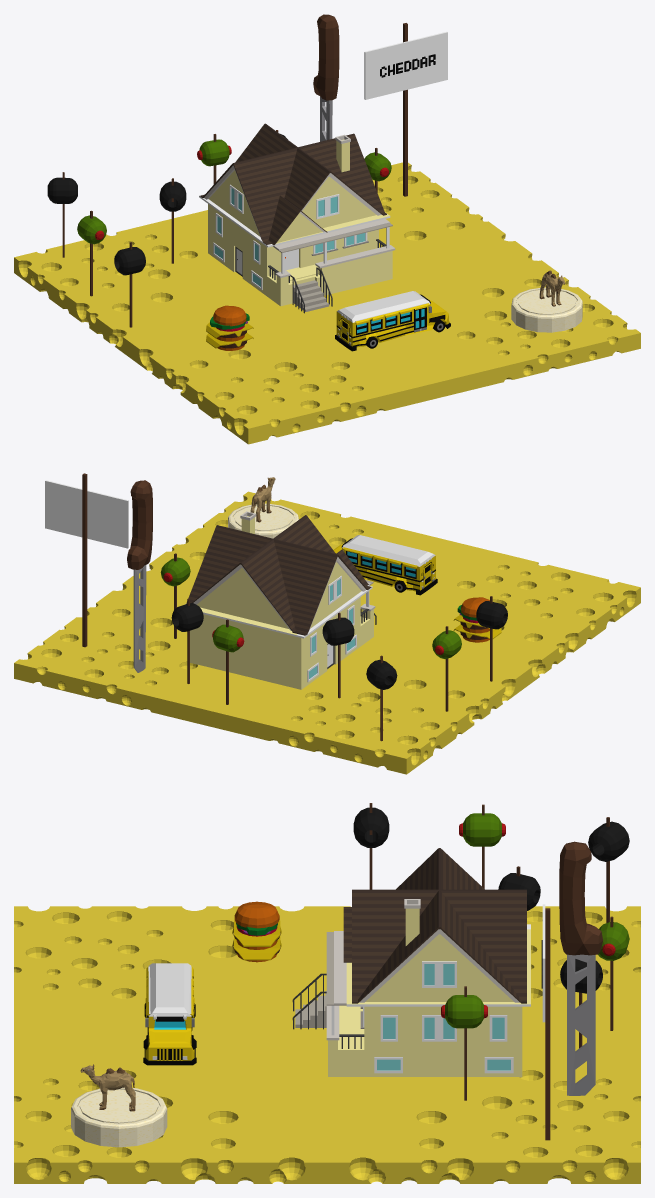
3 views of the same model, one above another, from view 1: azimuth 30°, elevation 25°; view 2: azimuth 150°, elevation 25°; view 3: azimuth 270°, elevation 25° (orthographic). The views are drawn at different scales.
Parts seen in each view (by area): view 1: Cube.022, Cube.1555, Cube.023, VEHICLES_SCHOOL_BUS, Cylinder.016, Cube.024, OBJRANDOM_HAMBURGER, Sphere.017, Sphere.016, Sphere.020, Sphere.018, Sphere.022 (+1 smaller); view 2: Cube.022, Cube.1555, Cube.023, VEHICLES_SCHOOL_BUS, Cube.024, Cylinder.016, OBJRANDOM_HAMBURGER, Sphere.017, Sphere.020, Sphere.021, Sphere.016, Sphere.018 (+3 smaller); view 3: Cube.022, Cube.1555, Cube.024, VEHICLES_SCHOOL_BUS, Cylinder.016, OBJRANDOM_HAMBURGER, Cube.023, Sphere.019, Sphere.016, Sphere.018, Sphere.017, Sphere.022 (+3 smaller).
Part boxes in pixels (x1=…): Cube.022: x1=14, y1=162, x2=640, y2=444; Cube.1555: x1=199, y1=123, x2=395, y2=313; Cube.023: x1=364, y1=23, x2=447, y2=196; VEHICLES_SCHOOL_BUS: x1=335, y1=291, x2=450, y2=351; Cylinder.016: x1=511, y1=287, x2=582, y2=332; Cube.024: x1=313, y1=14, x2=339, y2=141; OBJRANDOM_HAMBURGER: x1=206, y1=305, x2=253, y2=350; Sphere.017: x1=114, y1=242, x2=145, y2=327; Sphere.016: x1=47, y1=172, x2=77, y2=257; Sphere.020: x1=159, y1=178, x2=186, y2=263; Sphere.018: x1=77, y1=210, x2=106, y2=296; Sphere.022: x1=197, y1=134, x2=231, y2=184; Cube.022: x1=14, y1=491, x2=640, y2=774; Cube.1555: x1=185, y1=511, x2=376, y2=689; Cube.023: x1=45, y1=473, x2=128, y2=647; VEHICLES_SCHOOL_BUS: x1=333, y1=535, x2=437, y2=595; Cube.024: x1=127, y1=480, x2=152, y2=672; Cylinder.016: x1=228, y1=503, x2=298, y2=538; OBJRANDOM_HAMBURGER: x1=453, y1=597, x2=501, y2=642; Sphere.017: x1=476, y1=596, x2=507, y2=681; Sphere.020: x1=322, y1=612, x2=354, y2=698; Sphere.021: x1=171, y1=598, x2=203, y2=683; Sphere.016: x1=366, y1=655, x2=397, y2=741; Sphere.018: x1=432, y1=626, x2=461, y2=711; Cube.022: x1=14, y1=906, x2=640, y2=1183; Cube.1555: x1=292, y1=848, x2=530, y2=1077; Cube.024: x1=559, y1=841, x2=602, y2=1095; VEHICLES_SCHOOL_BUS: x1=143, y1=963, x2=196, y2=1065; Cylinder.016: x1=71, y1=1087, x2=167, y2=1147; OBJRANDOM_HAMBURGER: x1=232, y1=901, x2=281, y2=962; Cube.023: x1=541, y1=904, x2=550, y2=1140; Sphere.019: x1=441, y1=986, x2=487, y2=1100; Sphere.016: x1=588, y1=817, x2=629, y2=922; Sphere.018: x1=459, y1=804, x2=505, y2=888; Sphere.017: x1=353, y1=803, x2=389, y2=889; Sphere.022: x1=598, y1=916, x2=629, y2=1030.
Bounding box in the file's own units: 3917 × 2007 × 4000.
44 materials, 3 textured.
